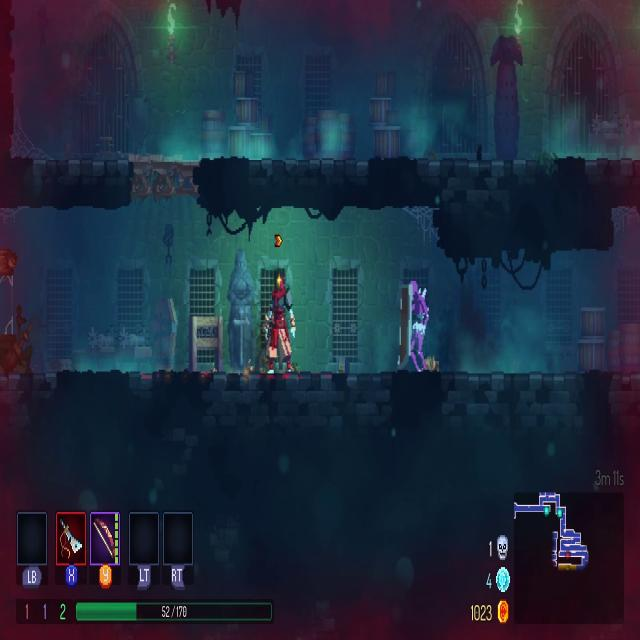agents: (264, 272, 298, 377)
enemy_purple_shield: (400, 282, 430, 372)
